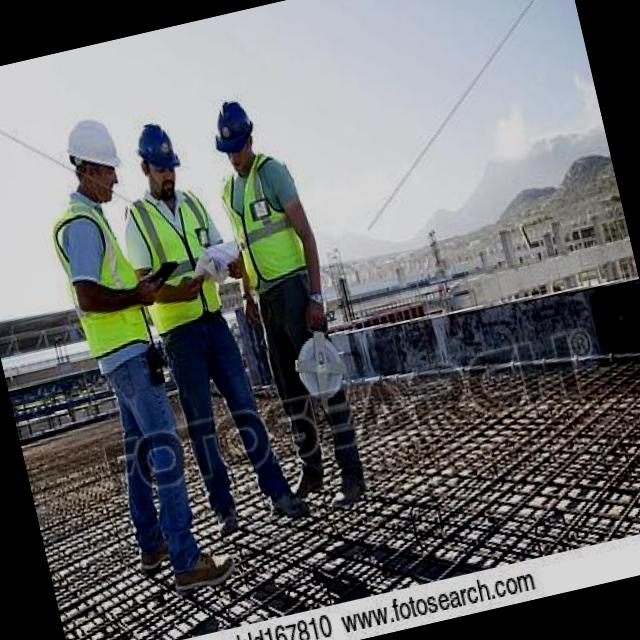helmet: (61, 108, 127, 186), (132, 113, 182, 180), (205, 100, 262, 154)
vest: (48, 189, 156, 373), (130, 184, 230, 335), (220, 165, 310, 286)
